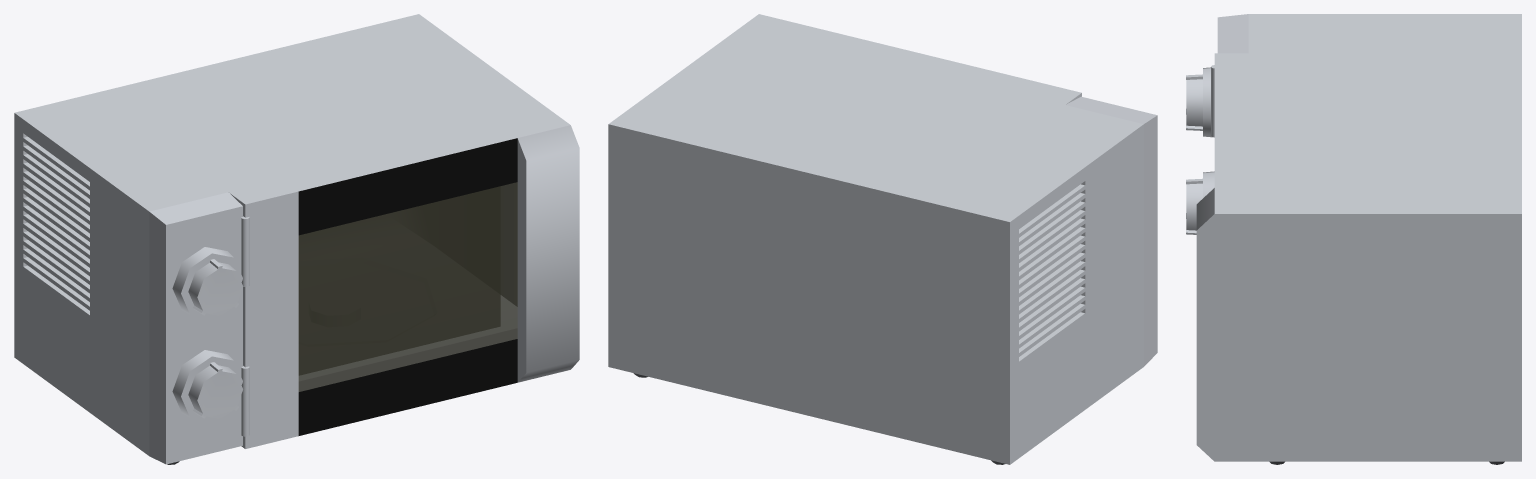
Rendered from Microwave.glb.
The picture shows the model from 3 angles, left to right: view 1: azimuth 30°, elevation 25°; view 2: azimuth 150°, elevation 25°; view 3: azimuth 270°, elevation 25°; orthographic projection. The views are drawn at different scales.
Visible parts, largest first — view 1: appliance_microwave_Cube.268, appliance_microwave_door_Cube.269, appliance_microwave_knob.001_Cube.417, appliance_microwave_knob_Cube.418; view 2: appliance_microwave_Cube.268, appliance_microwave_door_Cube.269; view 3: appliance_microwave_Cube.268, appliance_microwave_door_Cube.269, appliance_microwave_knob.001_Cube.417, appliance_microwave_knob_Cube.418.
Part boxes in pixels (left/top/right/bottom): appliance_microwave_Cube.268: left=14, top=14, right=553, bottom=464; appliance_microwave_door_Cube.269: left=229, top=113, right=579, bottom=448; appliance_microwave_knob.001_Cube.417: left=172, top=247, right=243, bottom=318; appliance_microwave_knob_Cube.418: left=172, top=350, right=242, bottom=421; appliance_microwave_Cube.268: left=608, top=26, right=1157, bottom=464; appliance_microwave_door_Cube.269: left=742, top=14, right=1081, bottom=104; appliance_microwave_Cube.268: left=1217, top=14, right=1521, bottom=464; appliance_microwave_door_Cube.269: left=1196, top=53, right=1248, bottom=461; appliance_microwave_knob.001_Cube.417: left=1186, top=67, right=1213, bottom=137; appliance_microwave_knob_Cube.418: left=1186, top=171, right=1214, bottom=234.
Bounding box in the file's own units: 9.99 × 6.03 × 7.09.
Materials: 3 (3 with a texture image).
